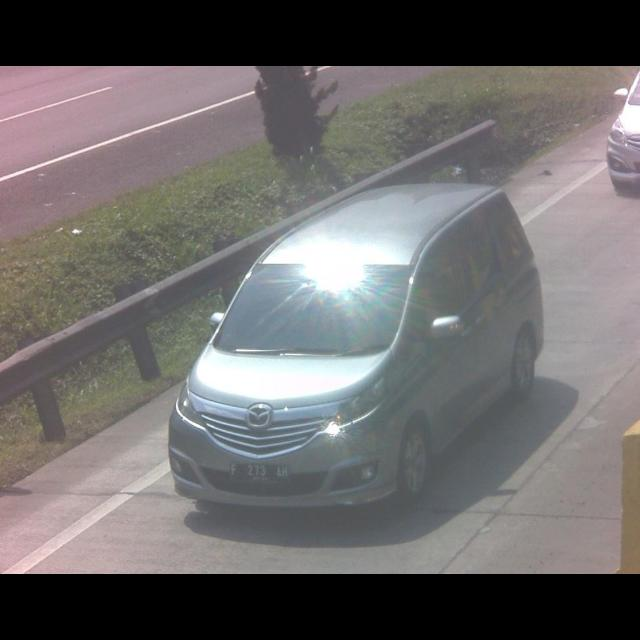plate: (228, 461, 292, 487)
